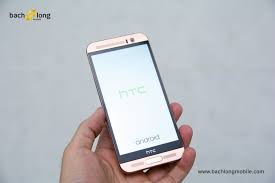htc: (82, 28, 188, 172)
